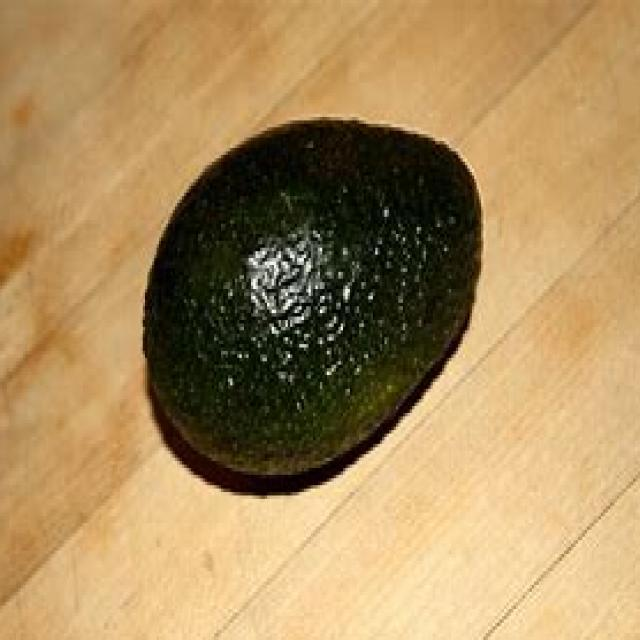avocado: (136, 113, 485, 493)
